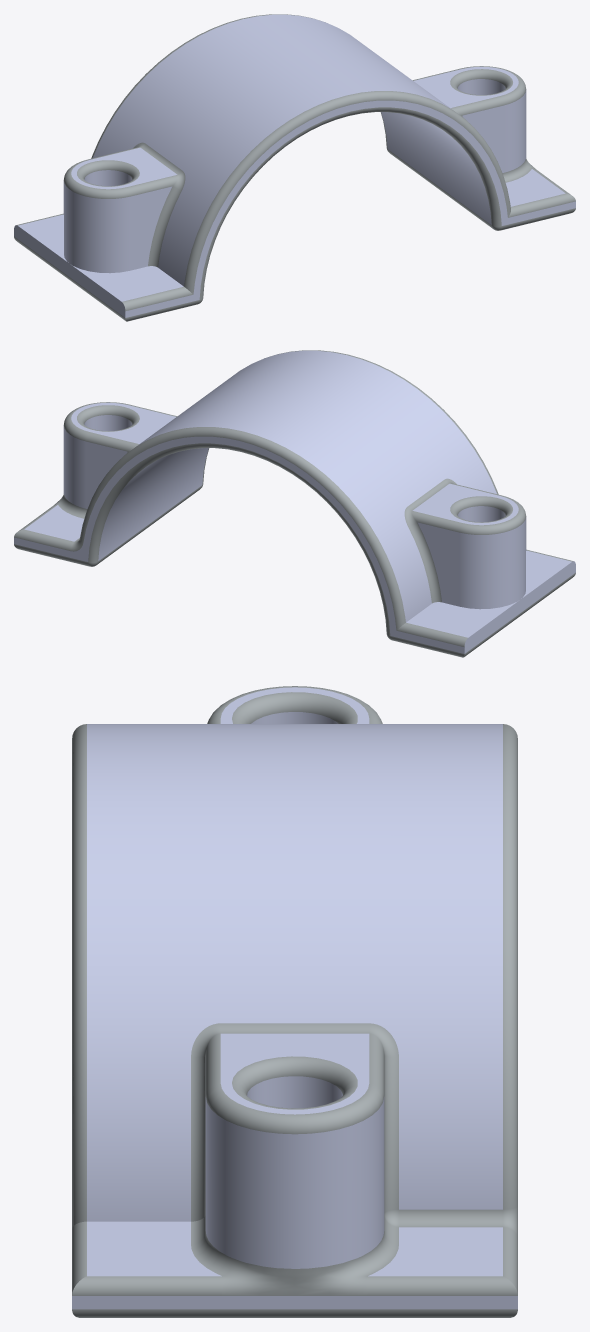
File: cover.glb
3 renders of one model, top to bottom at view 1: azimuth 30°, elevation 25°; view 2: azimuth 150°, elevation 25°; view 3: azimuth 270°, elevation 25°, orthographic. The views are drawn at different scales.
Visible parts, largest first — view 1: cover; view 2: cover; view 3: cover.
Part boxes in pixels (left/top/right/bottom): cover: left=14, top=14, right=575, bottom=321; cover: left=14, top=350, right=575, bottom=657; cover: left=72, top=686, right=517, bottom=1317.
Bounding box in the file's own units: 0.07 × 0.0255 × 0.03.
